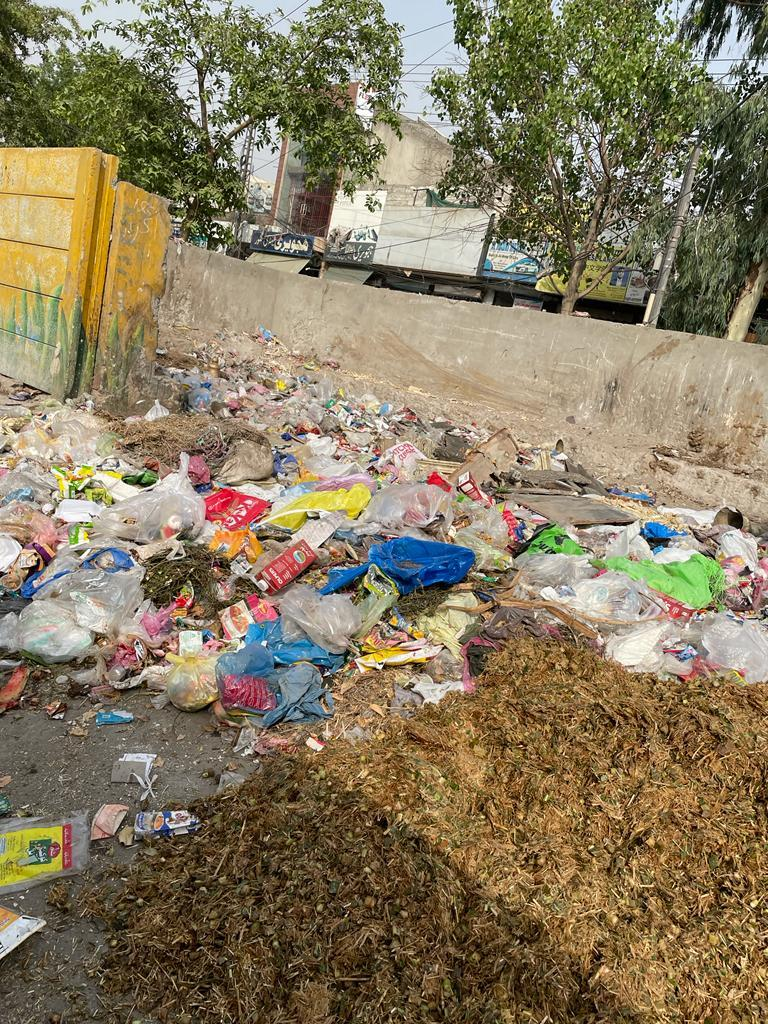garbage: (0, 352, 768, 741)
